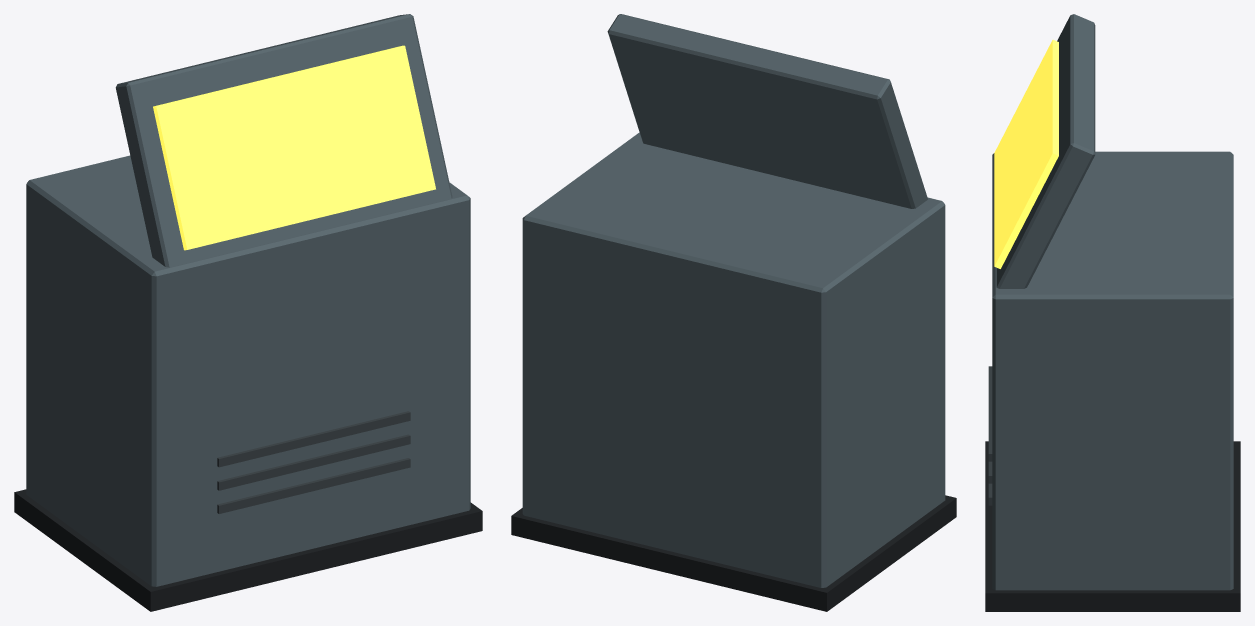
Rendered from lab_terminal_a.glb.
The picture shows the model from 3 angles, left to right: view 1: azimuth 30°, elevation 25°; view 2: azimuth 150°, elevation 25°; view 3: azimuth 270°, elevation 25°; orthographic projection. The views are drawn at different scales.
Visible parts, largest first — view 1: lab_terminal_a; view 2: lab_terminal_a; view 3: lab_terminal_a.
Boxes of the visible parts, x1,y1,x2,y2 form: lab_terminal_a: [14, 14, 482, 611]; lab_terminal_a: [511, 14, 956, 611]; lab_terminal_a: [985, 14, 1240, 611].
Bounding box in the file's own units: 1.04 × 1.46 × 0.74.
